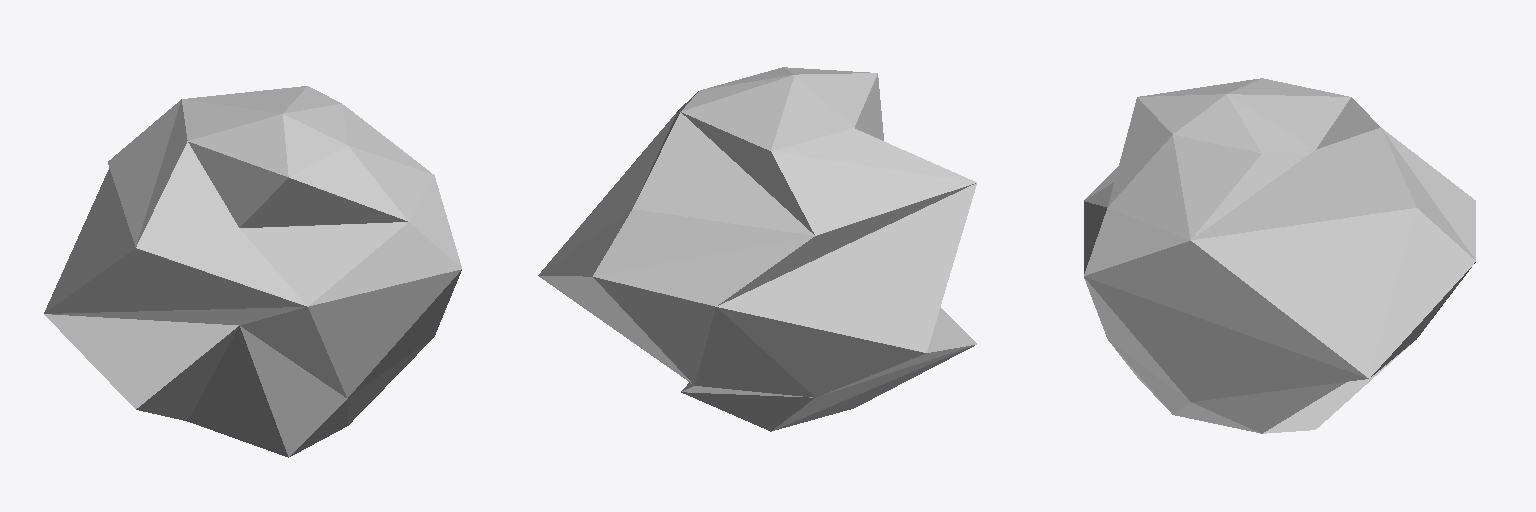
File: rock.obj
The picture shows the model from 3 angles: view 1: azimuth 30°, elevation 25°; view 2: azimuth 150°, elevation 25°; view 3: azimuth 270°, elevation 25°; orthographic projection.
Bounding box in the file's own units: 1.2 × 1 × 1.1.